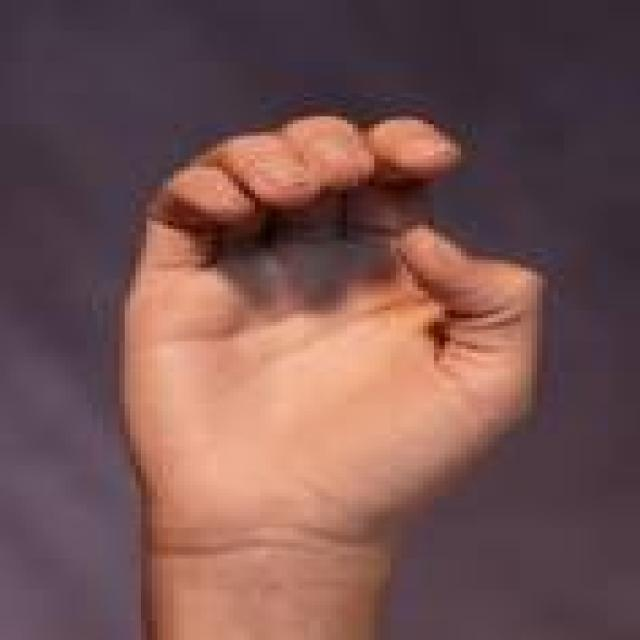C: (90, 105, 572, 566)
